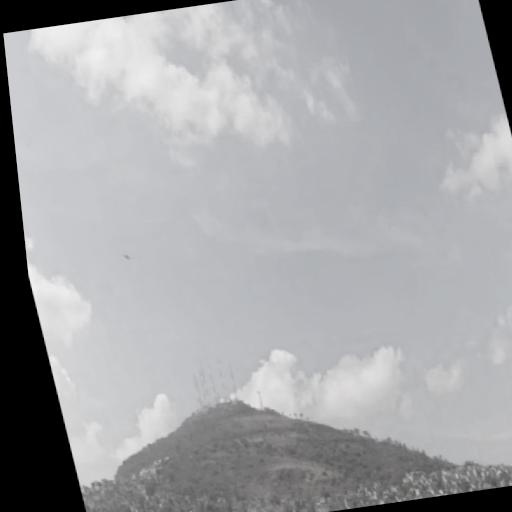drones: (119, 250, 134, 268)
